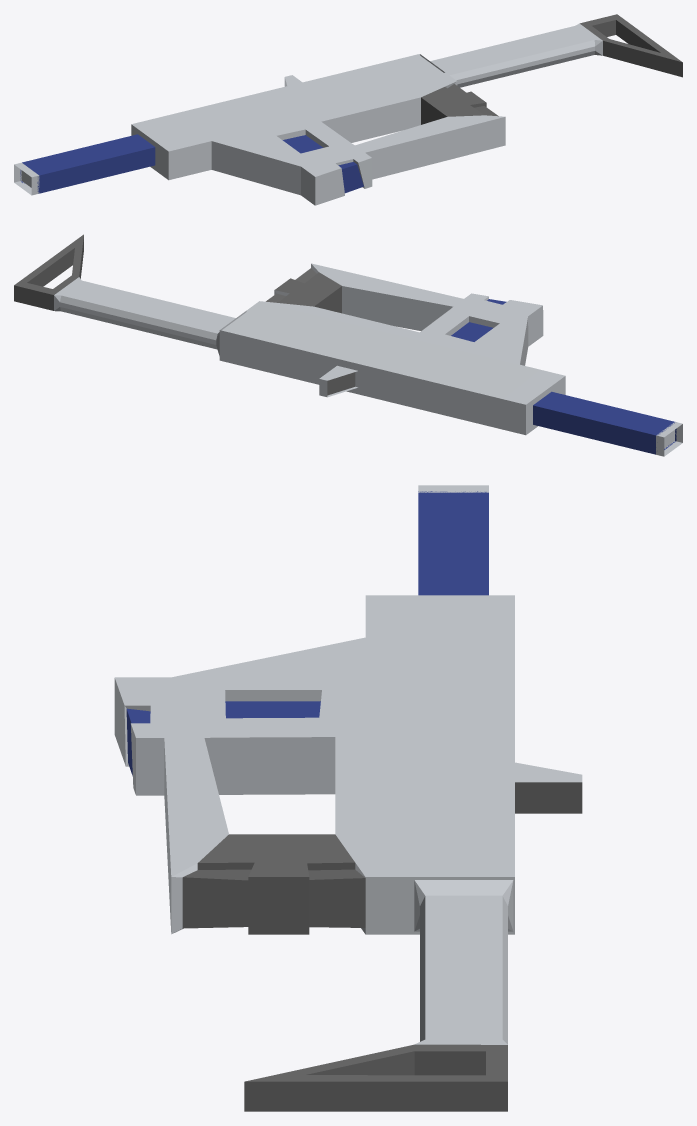
Rendered from SMG.fbx.
The picture shows the model from 3 angles, top to bottom: view 1: azimuth 30°, elevation 25°; view 2: azimuth 150°, elevation 25°; view 3: azimuth 270°, elevation 25°; orthographic projection. The views are drawn at different scales.
Parts seen in each view (by area): view 1: Plane; view 2: Plane; view 3: Plane.
Part boxes in pixels (x1,y1,x2,y2): Plane: (14, 14, 682, 205); Plane: (14, 234, 682, 456); Plane: (114, 485, 582, 1111).
Bounding box in the file's own units: 154 × 20.92 × 463.
